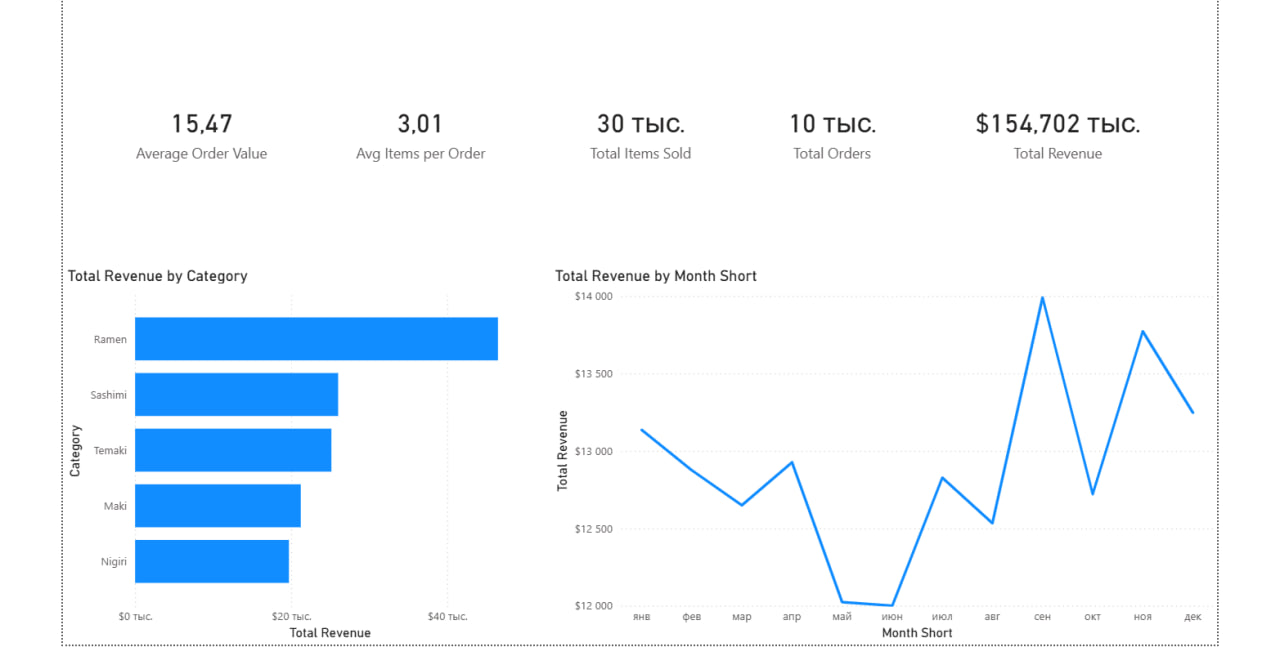

The page's visual inventory and layout, read from the dashboard file:
{"tool":"powerbi","page":{"name":"Страница 1","canvas":[1280,720],"ordinal":0},"visuals":[{"type":"card","fields":{"Values":["_Measures.Average Order Value"]},"box":[31.4,0,243.7,300.4],"z":2000},{"type":"lineChart","title":"Total Revenue by Month Short","fields":{"Y":["_Measures.Total Revenue"],"Category":["Calendar.Month Short"]},"box":[540.5,300.4,739.5,419.8],"z":5000},{"type":"clusteredBarChart","title":"Total Revenue by Category","fields":{"Category":["Tasty Sushi restaurant.Category"],"Y":["_Measures.Total Revenue"]},"box":[0,300.4,540.5,419.8],"z":5002},{"type":"card","fields":{"Values":["_Measures.Avg Items per Order"]},"box":[275.1,0,243.7,300.4],"z":5003},{"type":"card","fields":{"Values":["_Measures.Total Items Sold"]},"box":[518.8,0,243.7,300.4],"z":5004},{"type":"card","fields":{"Values":["_Measures.Total Orders"]},"box":[731.1,0,243.7,300.4],"z":5005},{"type":"card","fields":{"Values":["_Measures.Total Revenue"]},"box":[980.8,0,243.7,300.4],"z":5006}]}

Visuals, with their boxes on the page's 1280x720 design canvas (x1, y1, x2, y2). These are canvas units, not pixel positions in the 1280x647 screenshot, which may show the page scaled, cropped or inside an application window:
card - _Measures.Average Order Value: bbox(31, 0, 275, 300)
"Total Revenue by Month Short" lineChart: bbox(540, 300, 1280, 720)
"Total Revenue by Category" clusteredBarChart: bbox(0, 300, 540, 720)
card - _Measures.Avg Items per Order: bbox(275, 0, 519, 300)
card - _Measures.Total Items Sold: bbox(519, 0, 762, 300)
card - _Measures.Total Orders: bbox(731, 0, 975, 300)
card - _Measures.Total Revenue: bbox(981, 0, 1224, 300)
